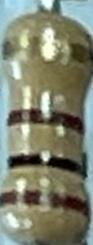Black: (4, 150, 85, 183)
Brown: (0, 189, 89, 228), (6, 105, 87, 139)
Side-Silver: (3, 36, 93, 69)
